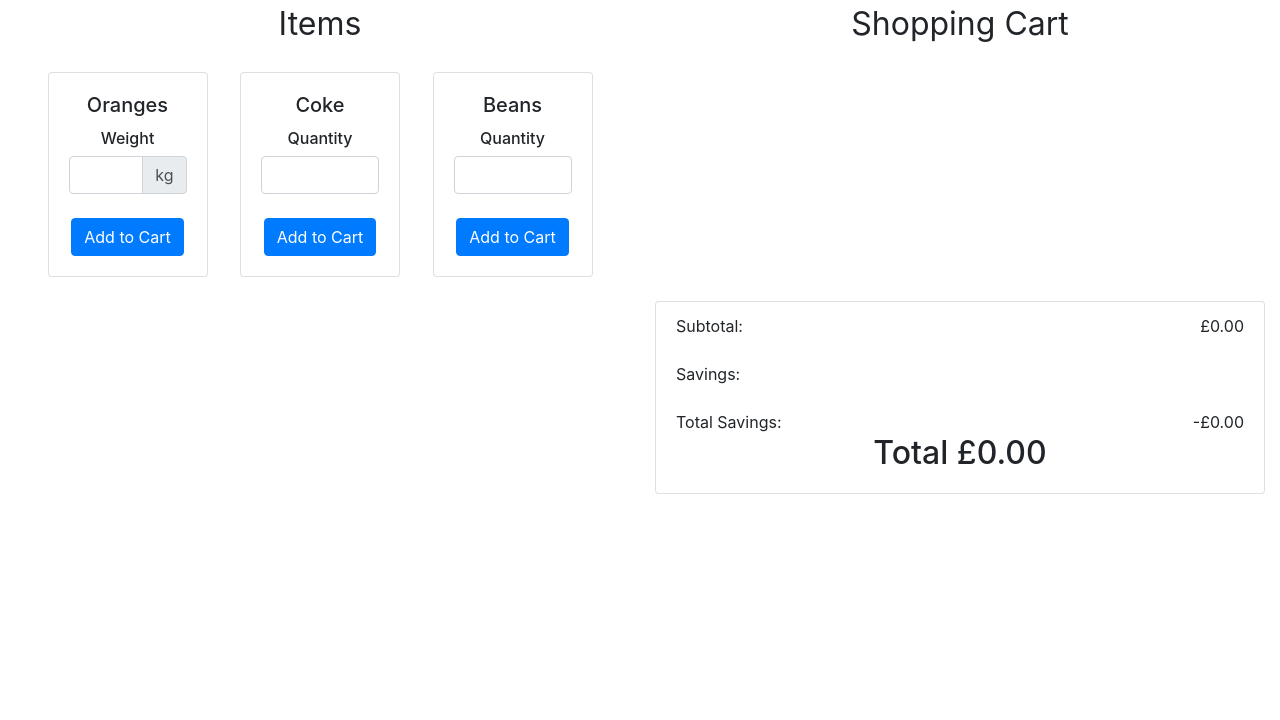
Shopping Cart › should be able to add mutliple items to cart and calculate total
The image size is (1280, 720).
In the field named "Weight" next to "kg": x=107, y=175 [69,156,144,194], type "1"
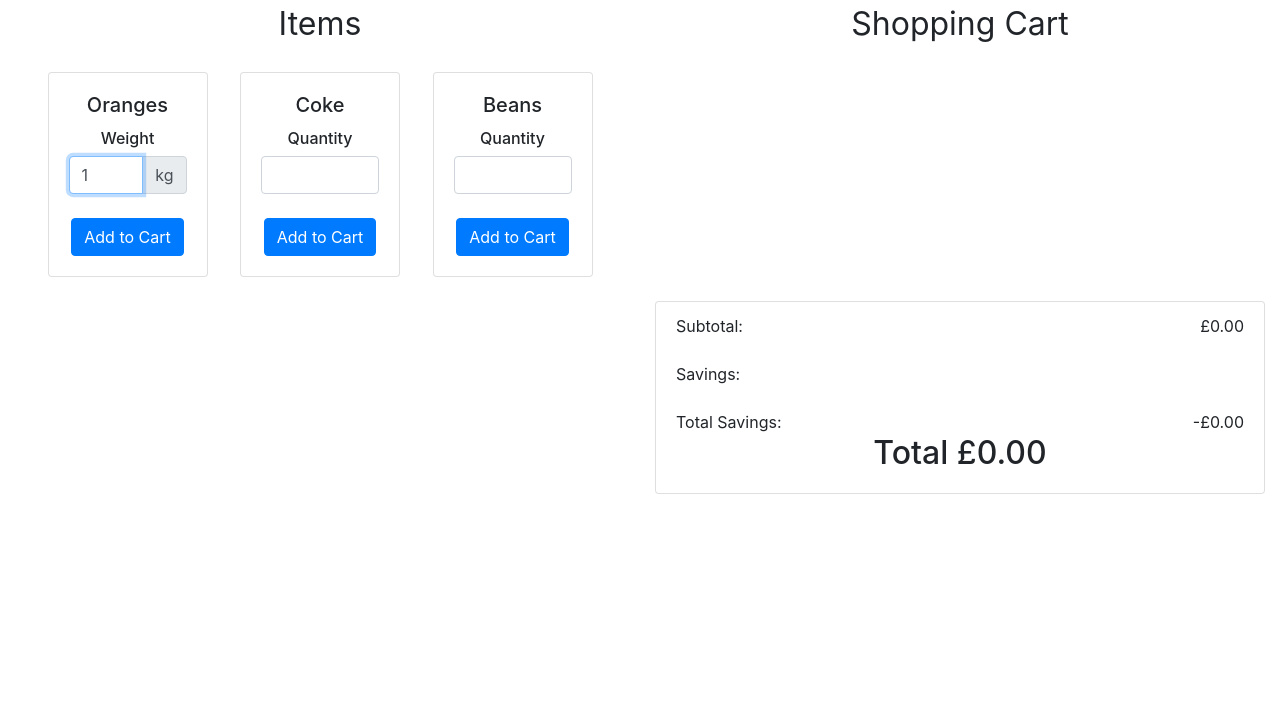
Click the button "Add to Cart" below "kg": x=128, y=237 [71,218,184,256]
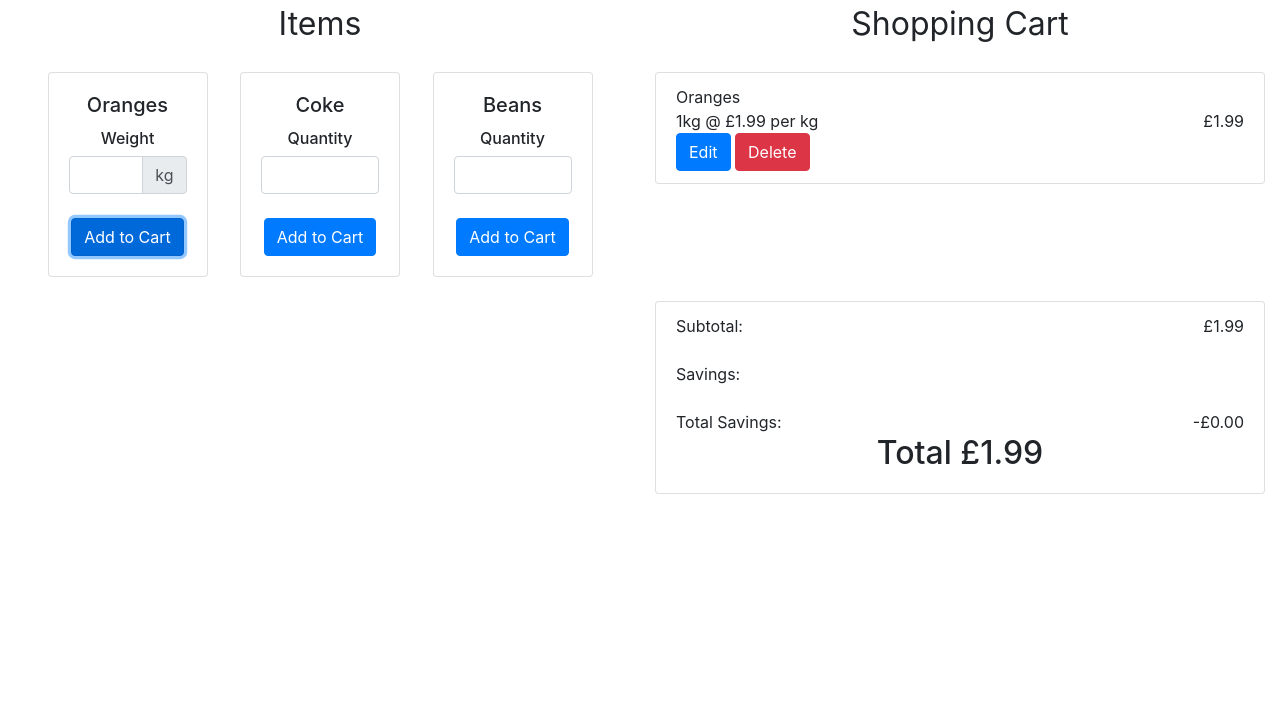
In the field named "Weight" below "Coke": x=320, y=175 [261,156,379,194], type "1"
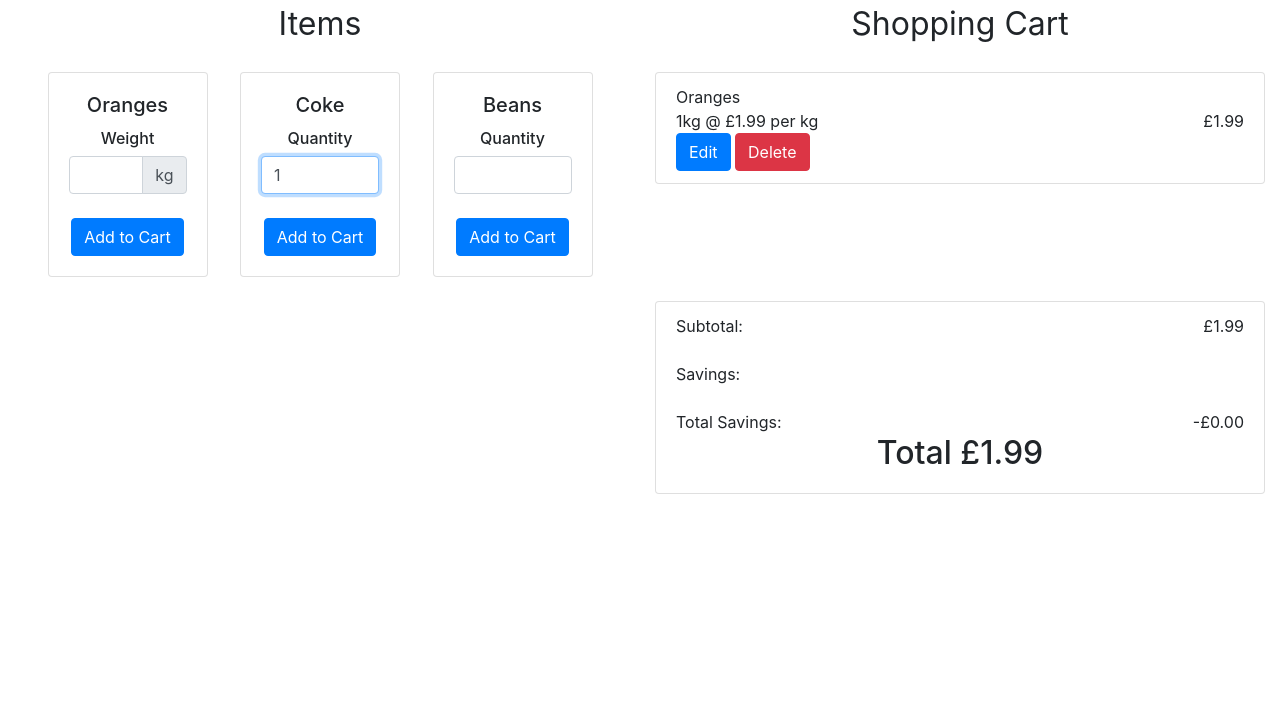
Click the button "Add to Cart" below "Coke": x=321, y=237 [264,218,377,256]
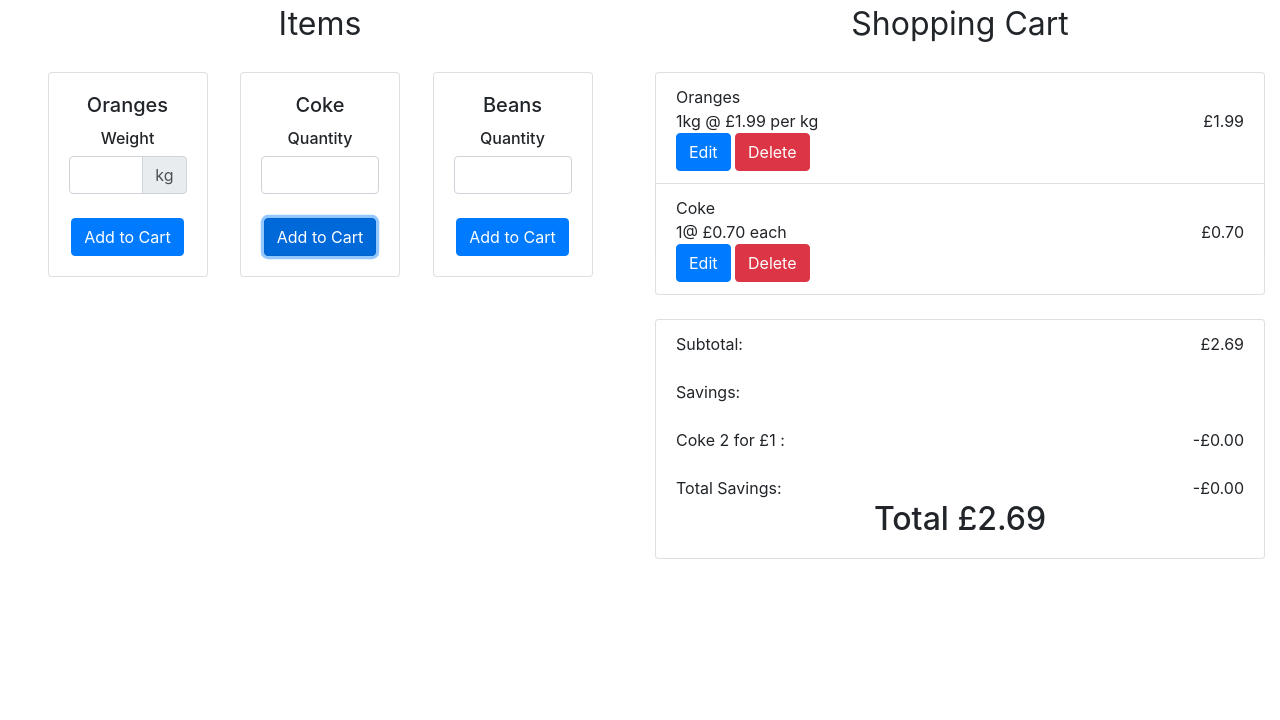
In the field named "Weight" below "Beans": x=513, y=175 [454,156,572,194], type "1"
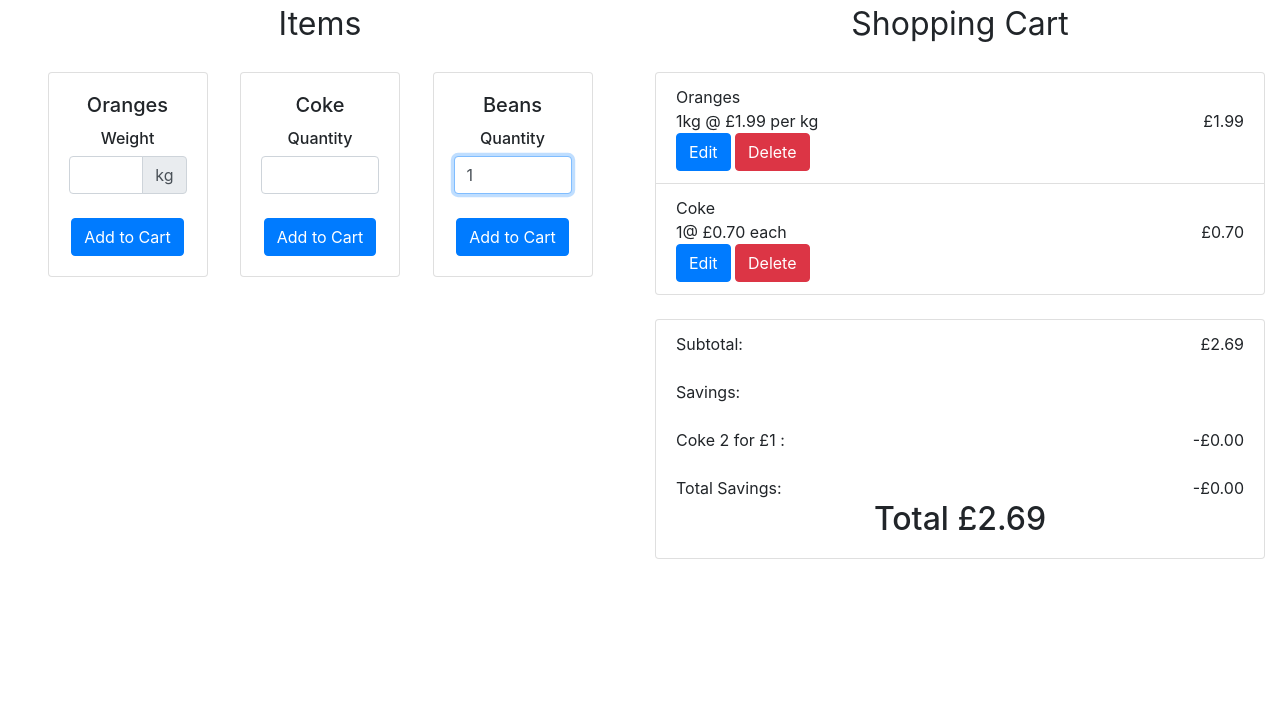
Click the button "Add to Cart" below "Beans": x=513, y=237 [456,218,569,256]
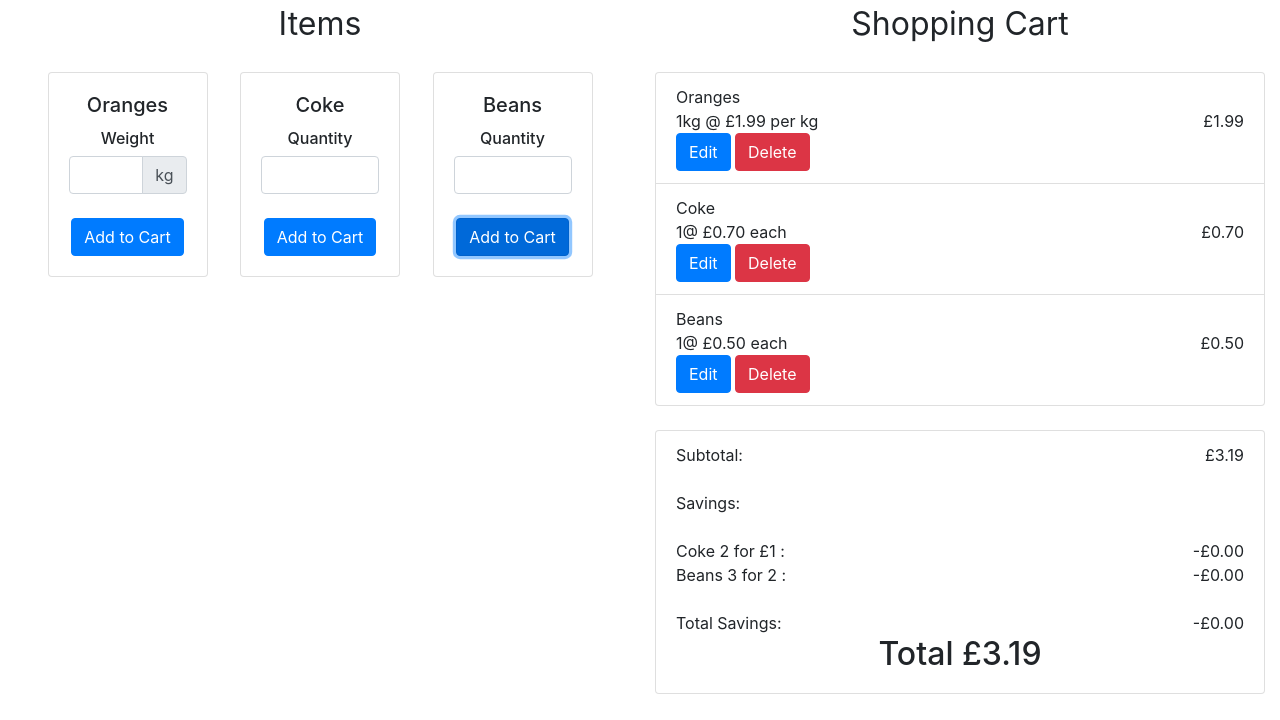
Expected: the heading "Total £3.19" is shown, [878,634,1042,673]
